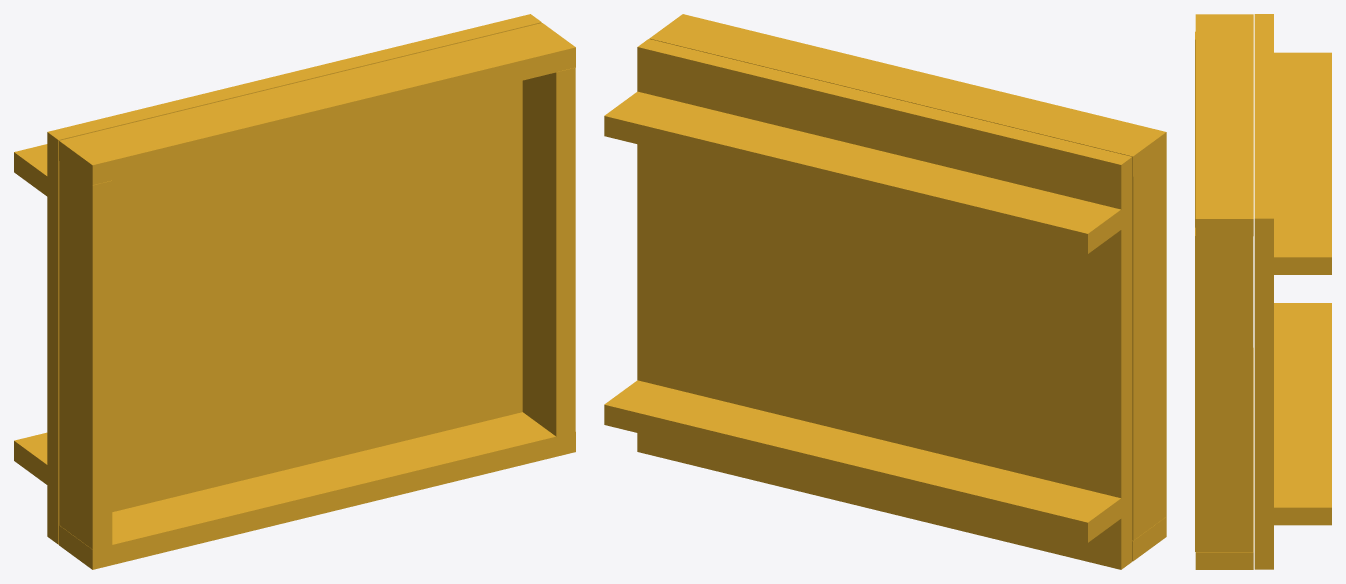
File: tray.obj
3 renders of one model, left to right at view 1: azimuth 30°, elevation 25°; view 2: azimuth 150°, elevation 25°; view 3: azimuth 270°, elevation 25°, orthographic. The views are drawn at different scales.
Parts seen in each view (by area): view 1: tray_bottom, tray_left, tray_right, tray_forward, tray_backward, tray_leg_left, tray_leg_right; view 2: tray_bottom, tray_leg_left, tray_leg_right, tray_left, tray_forward, tray_right; view 3: tray_backward, tray_left, tray_leg_left, tray_leg_right, tray_bottom, tray_right, tray_forward.
Boxes of the visible parts, x1,y1,x2,y2 form: tray_bottom: (47, 14, 541, 544); tray_left: (59, 23, 575, 185); tray_right: (59, 412, 575, 569); tray_forward: (59, 161, 112, 549); tray_backward: (522, 67, 575, 436); tray_leg_left: (14, 144, 47, 196); tray_leg_right: (14, 432, 47, 484); tray_bottom: (637, 39, 1132, 569); tray_leg_left: (604, 91, 1121, 253); tray_leg_right: (604, 380, 1121, 542); tray_left: (649, 14, 1166, 176); tray_forward: (1132, 152, 1166, 540); tray_right: (1132, 517, 1166, 561); tray_backward: (1195, 227, 1253, 551); tray_left: (1195, 14, 1253, 236); tray_leg_left: (1274, 52, 1331, 274); tray_leg_right: (1274, 303, 1331, 525); tray_bottom: (1254, 14, 1273, 569); tray_right: (1195, 348, 1253, 569); tray_forward: (1195, 31, 1195, 227).
Size of the model in its own units: 0.25 by 0.2001 by 0.0706.
